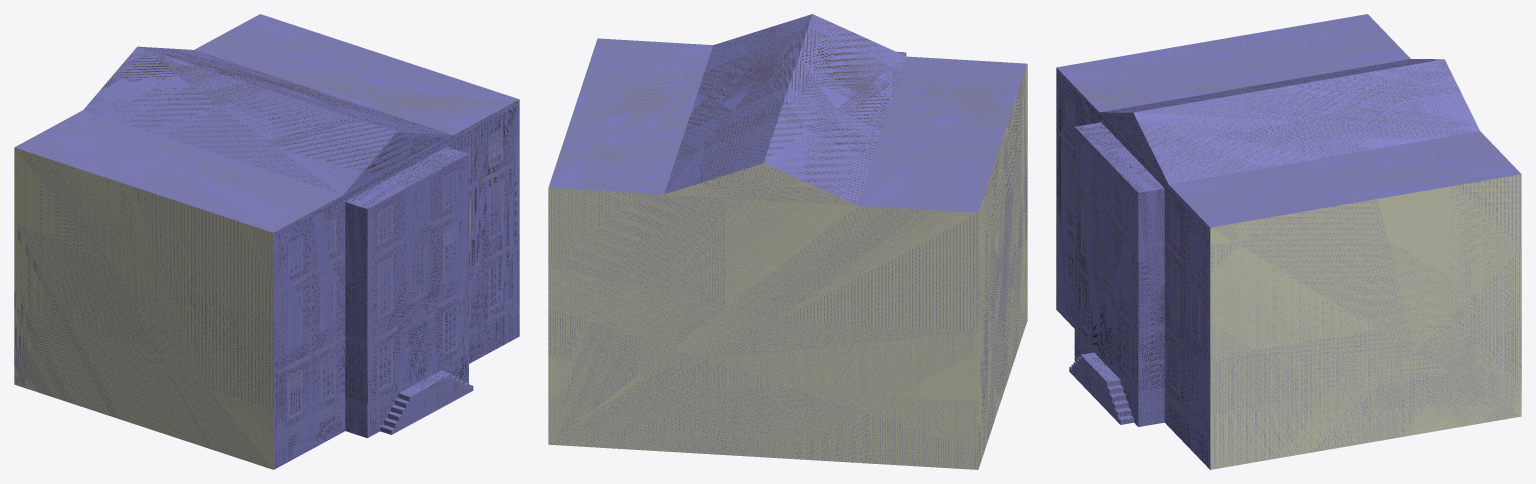
Rendered from LondonHouse.dae.
The picture shows the model from 3 angles, left to right: view 1: azimuth 30°, elevation 25°; view 2: azimuth 150°, elevation 25°; view 3: azimuth 270°, elevation 25°; orthographic projection. The views are drawn at different scales.
Visible parts, largest first — view 1: Building_Footprints; view 2: Building_Footprints; view 3: Building_Footprints.
Boxes of the visible parts, left/top/right/bottom form: Building_Footprints: left=14, top=14, right=519, bottom=469; Building_Footprints: left=548, top=14, right=1027, bottom=469; Building_Footprints: left=1056, top=14, right=1521, bottom=469.
Bounding box in the file's own units: 1412 × 1300 × 854.
